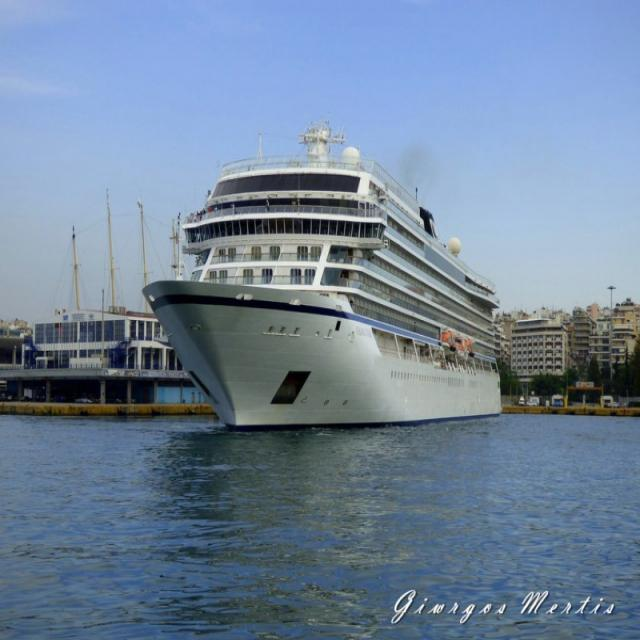cruises: (140, 114, 509, 445)
